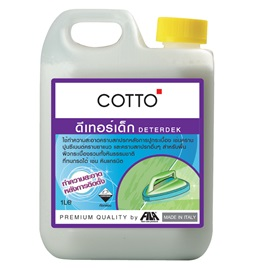Cleaning_solution: (34, 4, 215, 266)
